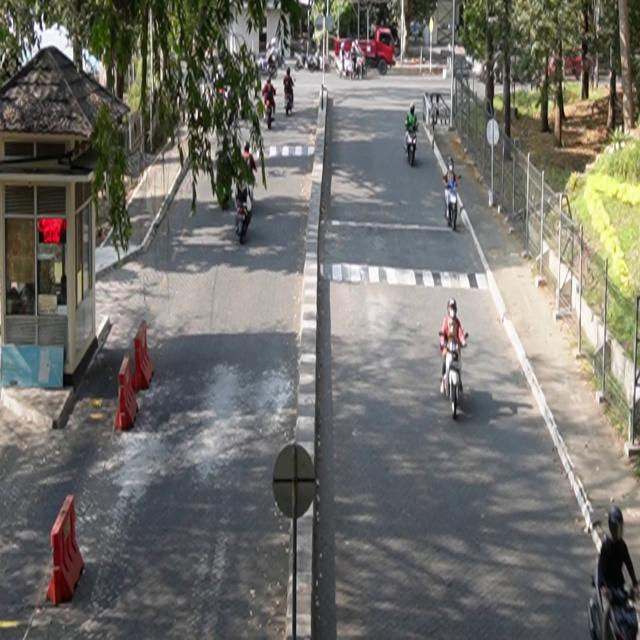truck: (335, 26, 396, 77)
